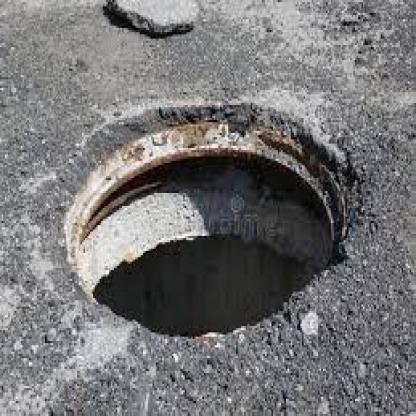open manhole-not overflowing-: (64, 105, 366, 357)
